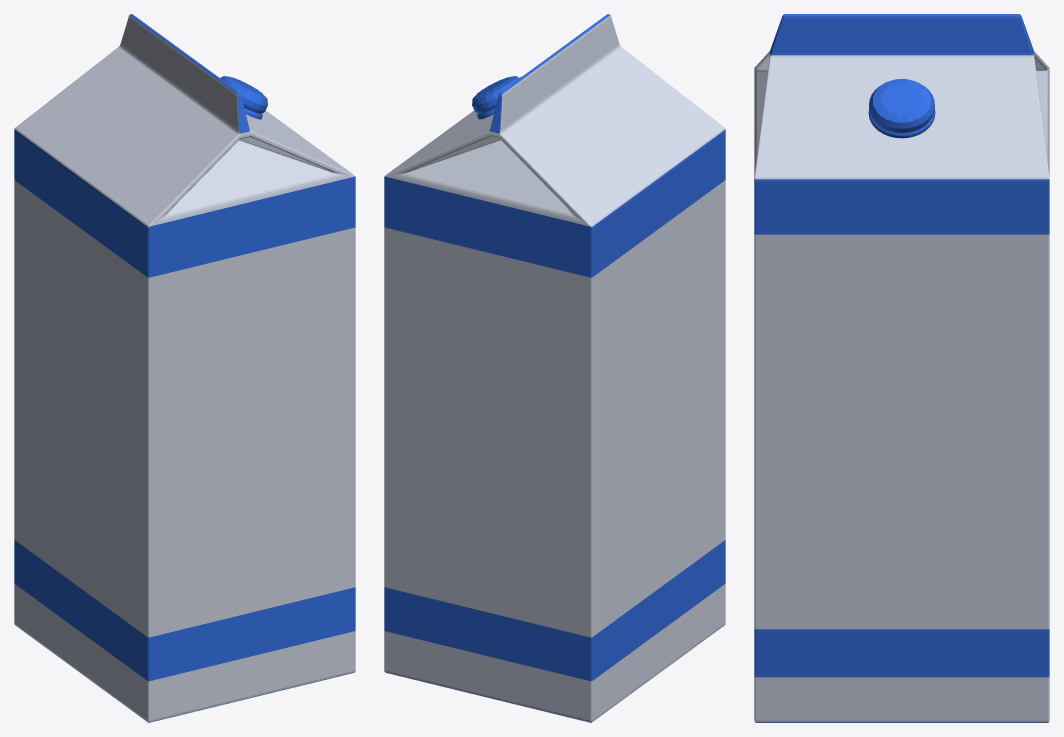
File: MilkPack.fbx
The picture shows the model from 3 angles, left to right: view 1: azimuth 30°, elevation 25°; view 2: azimuth 150°, elevation 25°; view 3: azimuth 270°, elevation 25°; orthographic projection. The views are drawn at different scales.
Visible parts, largest first — view 1: Carton, Dop; view 2: Carton, Dop; view 3: Carton, Dop.
Boxes of the visible parts, x1=… form: Carton: x1=14, y1=14, x2=355, y2=722; Dop: x1=220, y1=76, x2=267, y2=119; Carton: x1=384, y1=14, x2=725, y2=722; Dop: x1=472, y1=76, x2=519, y2=119; Carton: x1=754, y1=14, x2=1049, y2=722; Dop: x1=868, y1=79, x2=935, y2=138.
Bounding box in the file's own units: 112 × 307 × 126.
